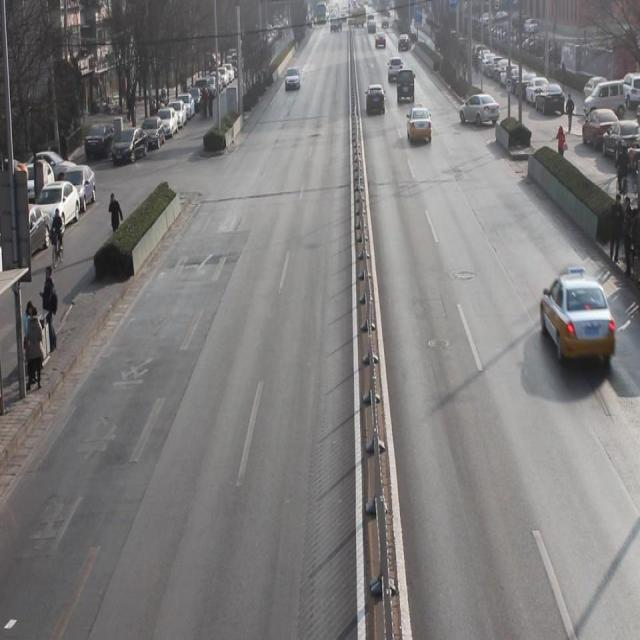car: (540, 268, 618, 370), (458, 96, 502, 128), (408, 108, 433, 149), (366, 80, 385, 118), (284, 66, 302, 94), (386, 57, 403, 86)
truck: (394, 68, 416, 104)
